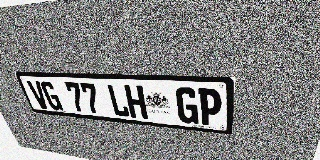7: (63, 82, 88, 113), (79, 83, 103, 115)
G: (175, 87, 198, 124), (39, 81, 64, 111)
H: (124, 85, 148, 119)
L: (106, 84, 130, 117)
P: (198, 88, 222, 126)
V: (26, 81, 51, 109)
